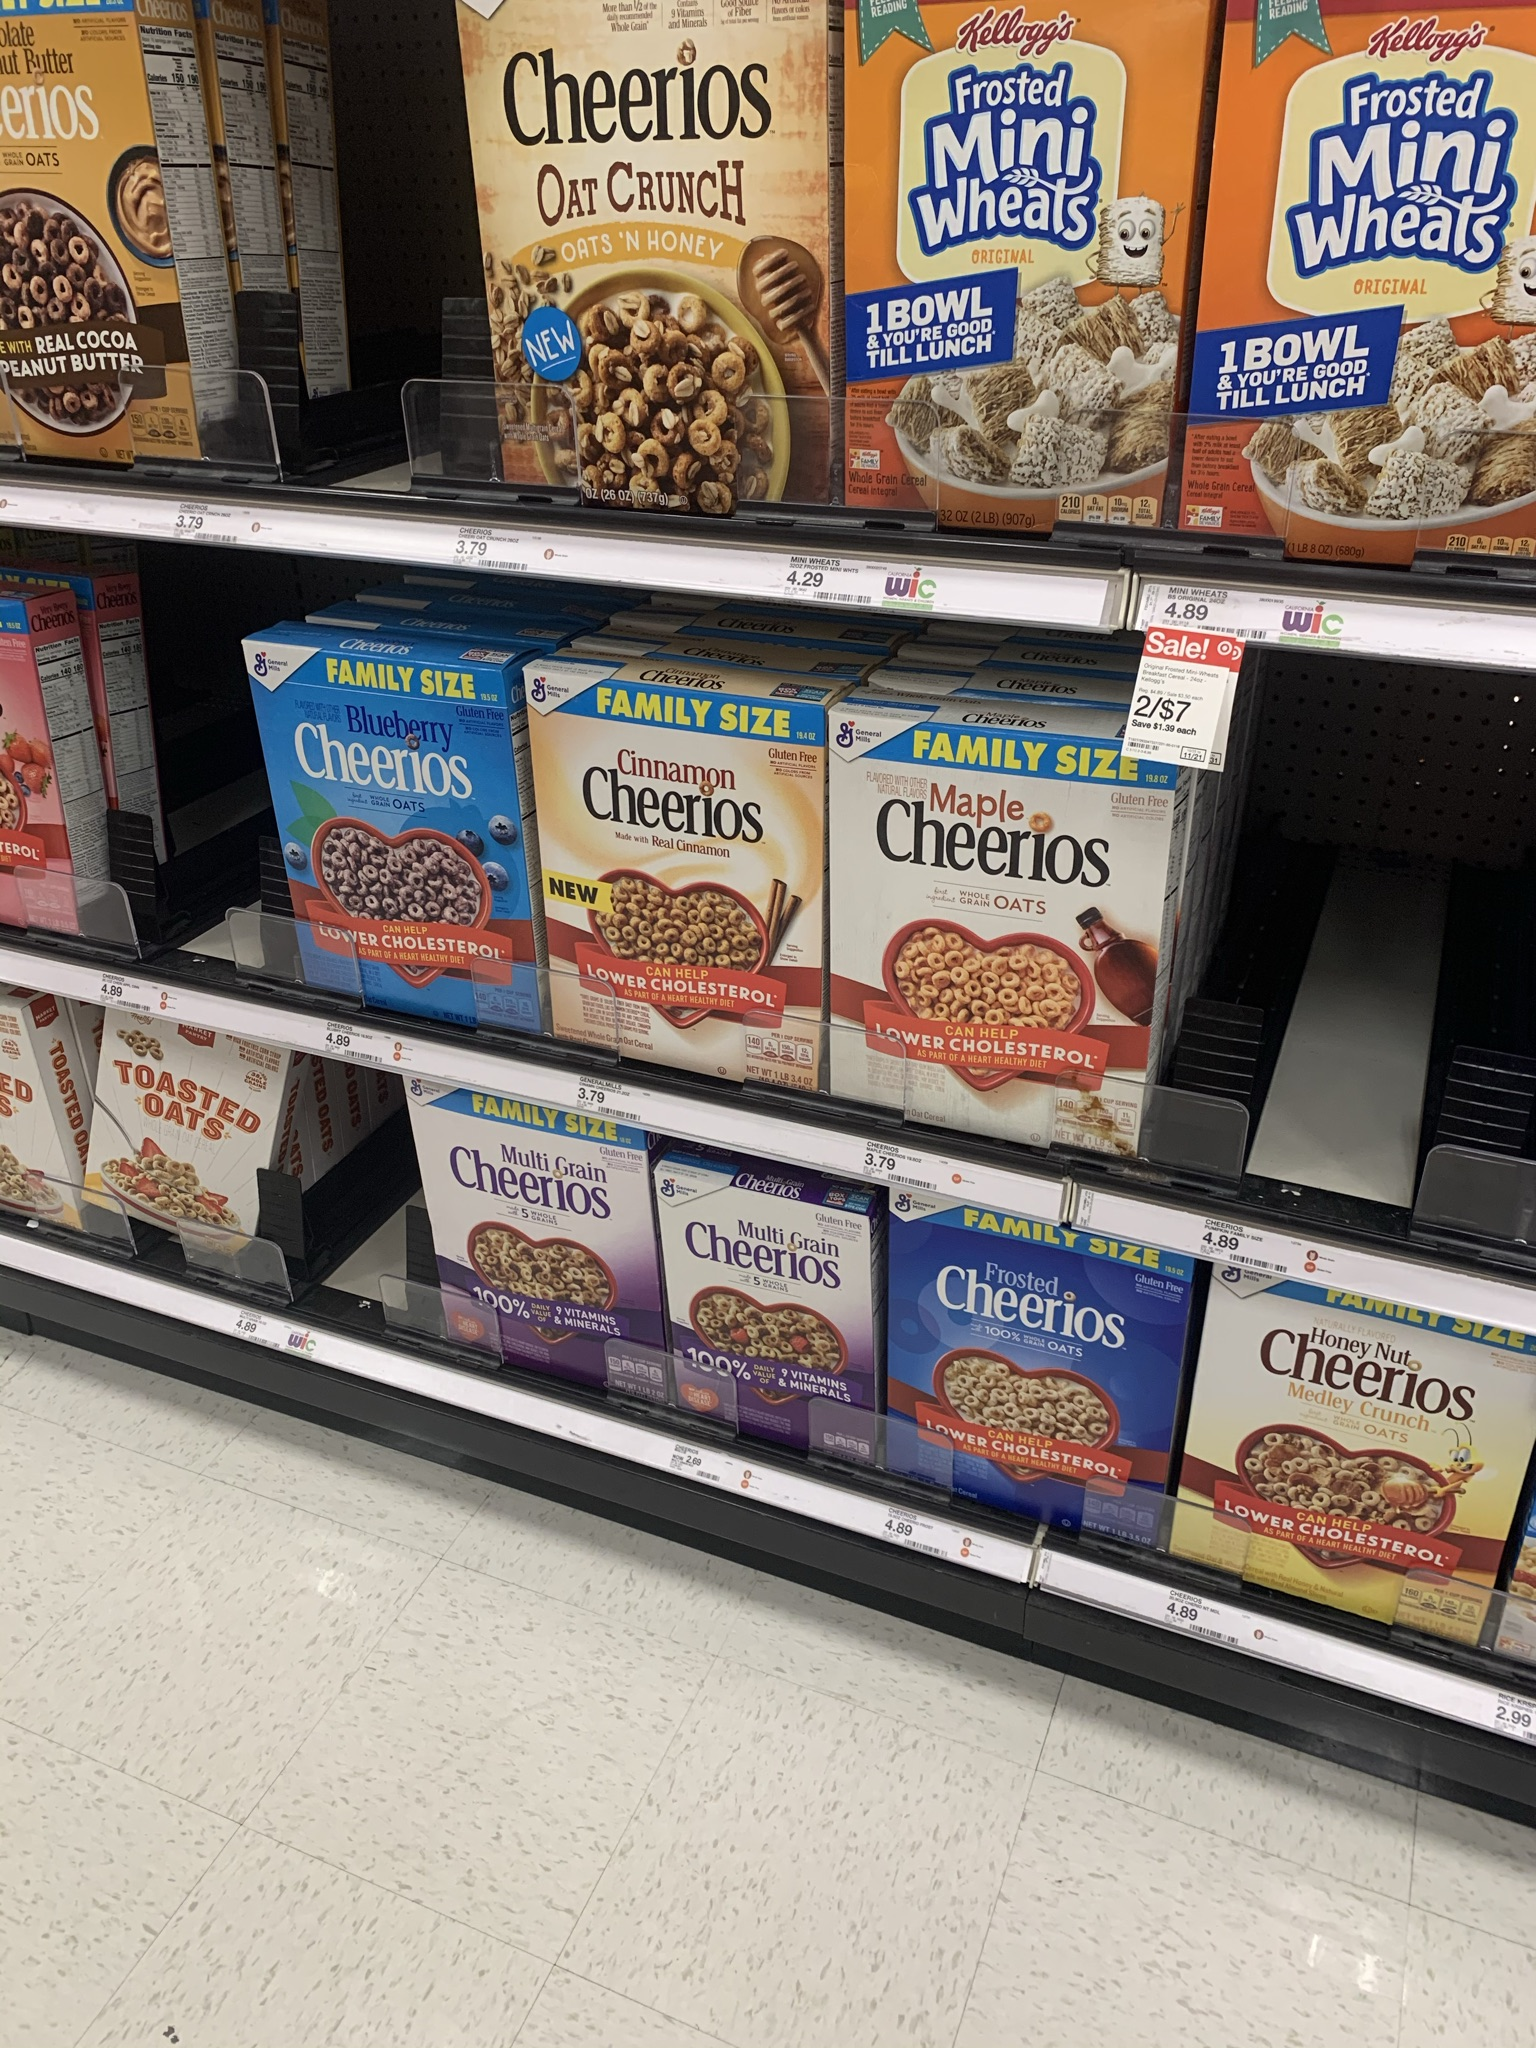box: (473, 21, 829, 387), (1217, 48, 1536, 427), (857, 32, 1173, 387), (849, 745, 1139, 1050), (547, 698, 821, 1021), (1239, 1321, 1509, 1569), (286, 669, 523, 943), (900, 1250, 1173, 1485), (3, 10, 173, 360), (424, 1122, 649, 1343), (660, 1205, 873, 1397), (98, 1037, 263, 1226)
